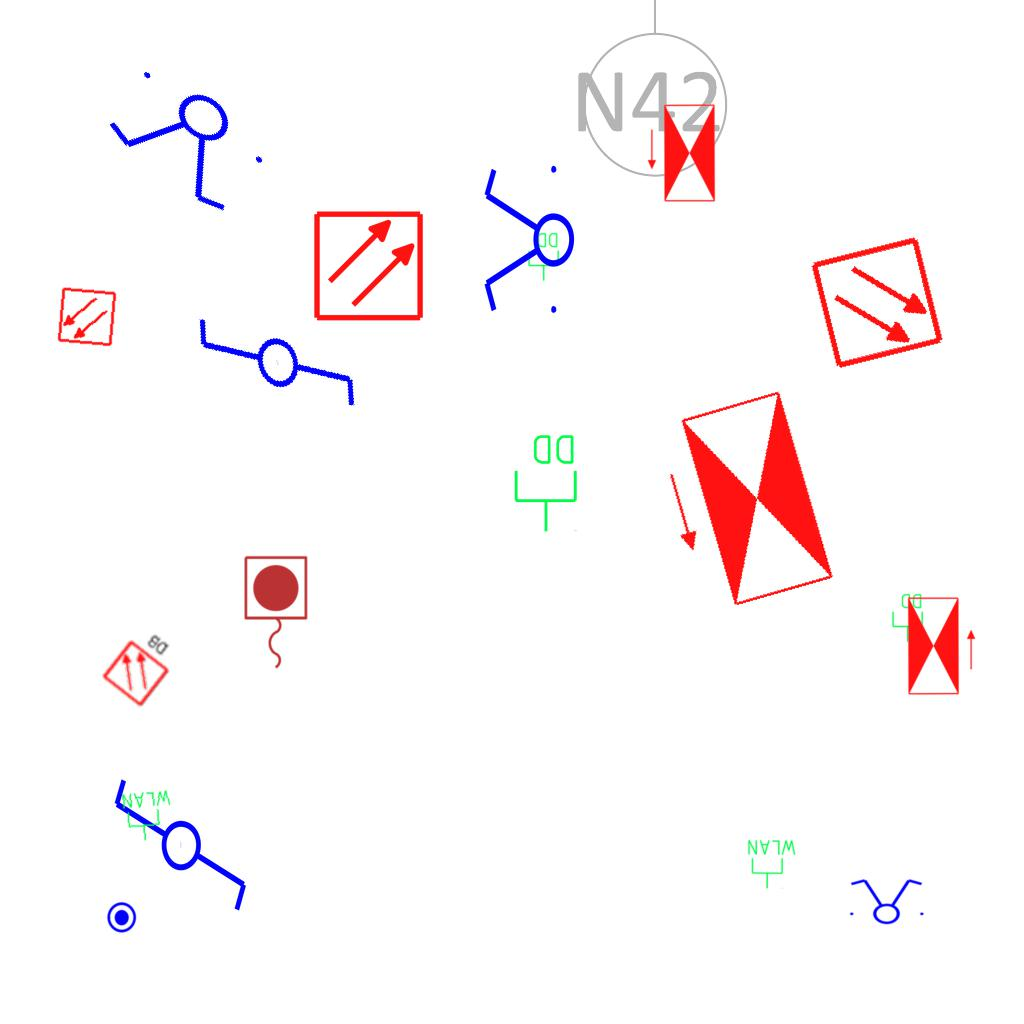DB_Melder_in_Doppelboden_mit_Revisionsoeffnung_mind_40_x_40_cm: (96, 618, 187, 712)
Datenanschluss_zweifach: (512, 431, 581, 534), (527, 231, 561, 282), (891, 592, 925, 643)
Fluchtwegpiktogramm: (642, 382, 841, 624), (645, 101, 718, 205), (905, 594, 978, 698)
RMO_Rauchmelder_optischer: (809, 234, 946, 371), (312, 209, 425, 322), (56, 286, 118, 348)
Serienschalter: (93, 50, 285, 228), (480, 157, 576, 325), (844, 877, 928, 925)
Taster: (104, 901, 137, 934)
WLAN: (119, 787, 177, 845), (746, 838, 798, 890)
Wechselschalter: (184, 273, 373, 469), (107, 775, 251, 932)
Zugtaster: (239, 552, 311, 674)
